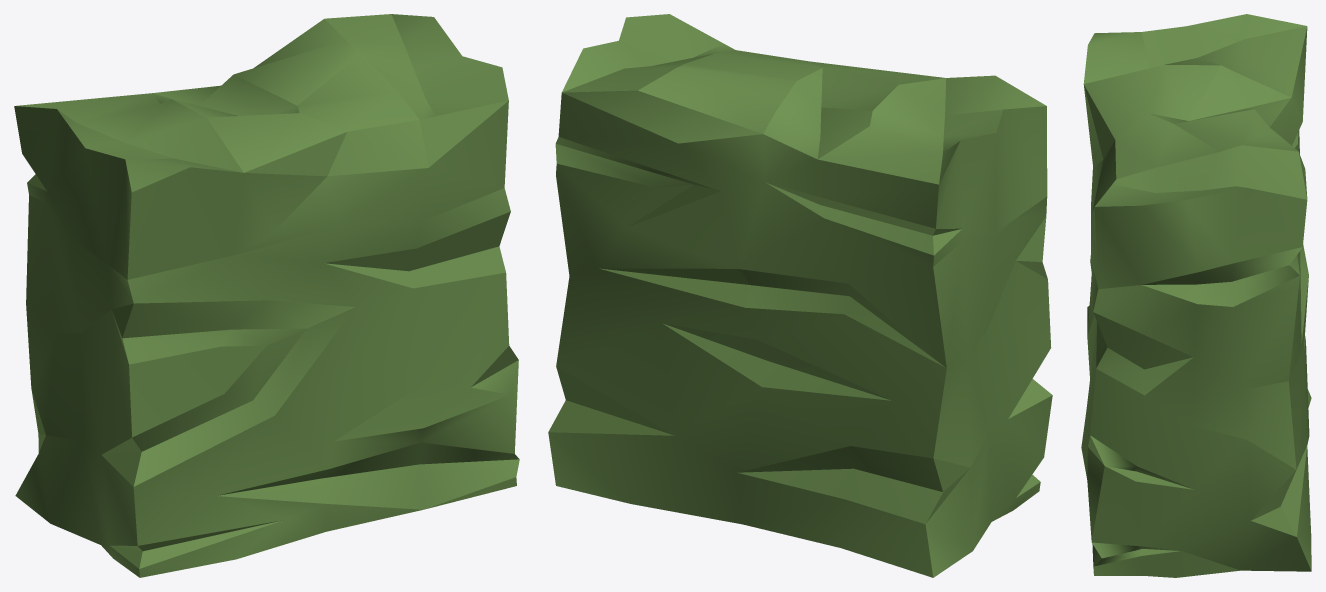
File: Hedge_1.fbx
3 renders of one model, left to right at view 1: azimuth 30°, elevation 25°; view 2: azimuth 150°, elevation 25°; view 3: azimuth 270°, elevation 25°, orthographic. The views are drawn at different scales.
Visible parts, largest first — view 1: Hedge_1; view 2: Hedge_1; view 3: Hedge_1.
Part boxes in pixels (x1,y1,x2,y2): Hedge_1: (14,14,519,577); Hedge_1: (548,14,1052,577); Hedge_1: (1081,14,1311,577).
Size of the model in its own units: 48.87 by 47.27 by 25.42.
